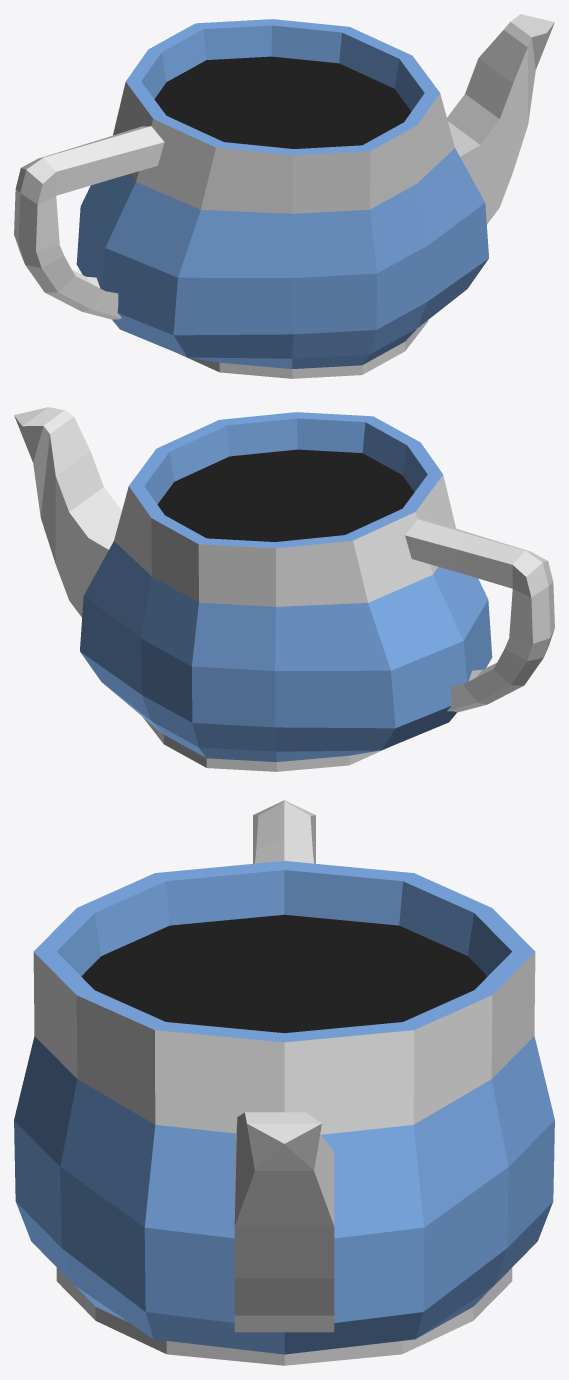
File: Teapot.fbx
3 renders of one model, top to bottom at view 1: azimuth 30°, elevation 25°; view 2: azimuth 150°, elevation 25°; view 3: azimuth 270°, elevation 25°, orthographic. The views are drawn at different scales.
Parts seen in each view (by area): view 1: Teapot; view 2: Teapot; view 3: Teapot.
Boxes of the visible parts, x1,y1,x2,y2 form: Teapot: [14, 14, 554, 378]; Teapot: [14, 407, 554, 771]; Teapot: [14, 800, 554, 1365].
Bounding box in the file's own units: 28.91 × 11.96 × 17.59.
